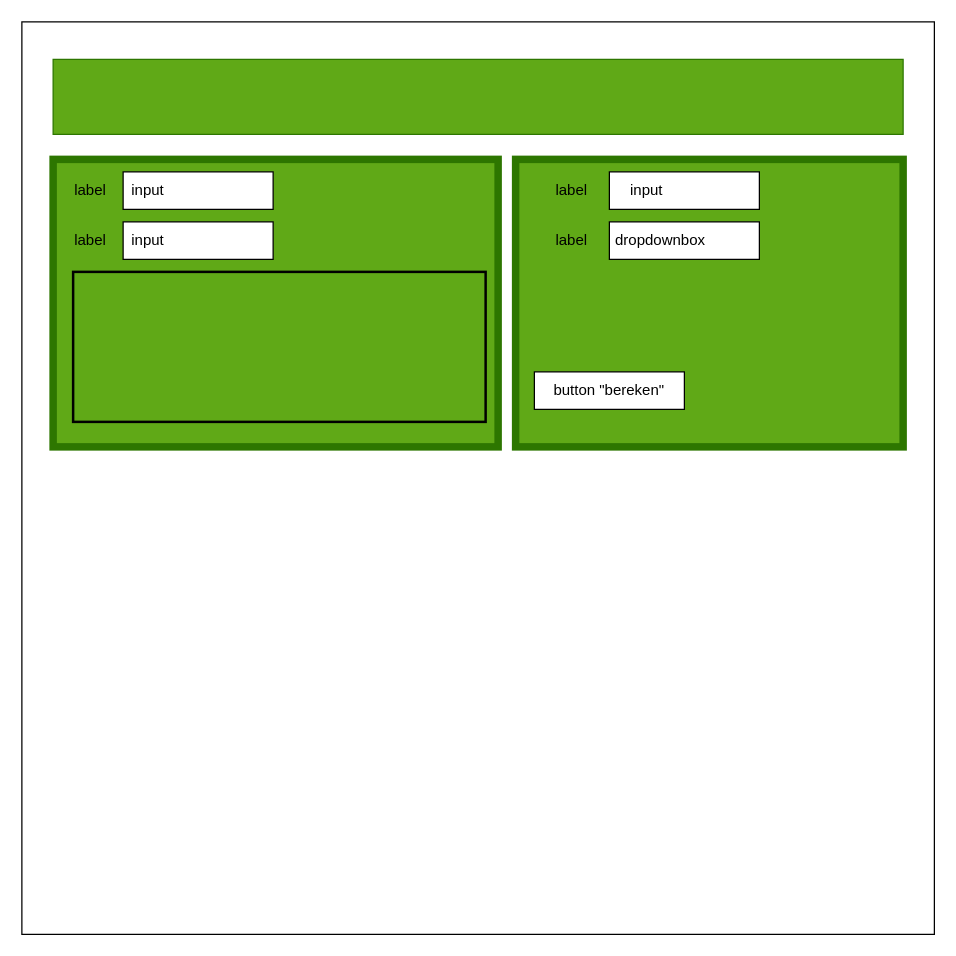
Image size: 956x956. Some labels were removed from this diagram. Here are the shapes that lost their labels. From the top down, the box of each, then its label:
(52, 58, 903, 134): Titel
(71, 270, 486, 422): resultaat
